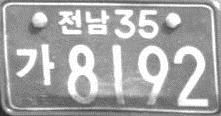1: (109, 43, 128, 107)
2: (173, 44, 209, 108)
3: (113, 8, 135, 39)
5: (138, 7, 159, 39)
8: (65, 43, 99, 104)
9: (136, 43, 169, 105)
가: (14, 43, 55, 86)
전남_O: (57, 8, 110, 36)
